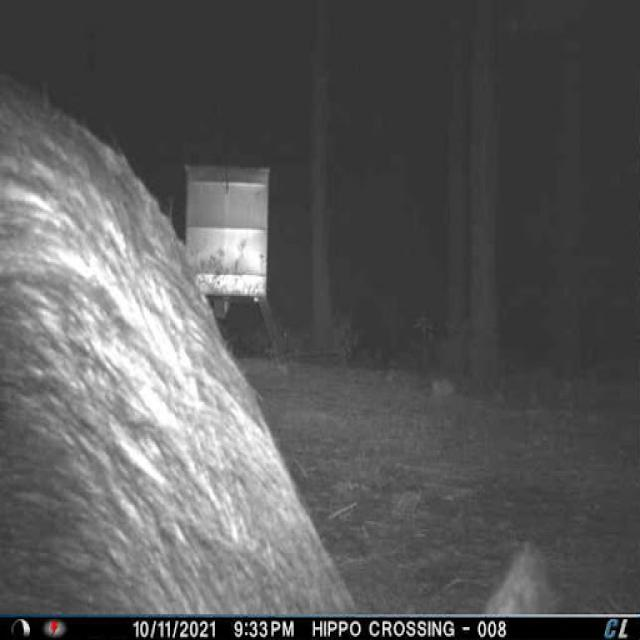wild boar: (0, 74, 568, 617)
